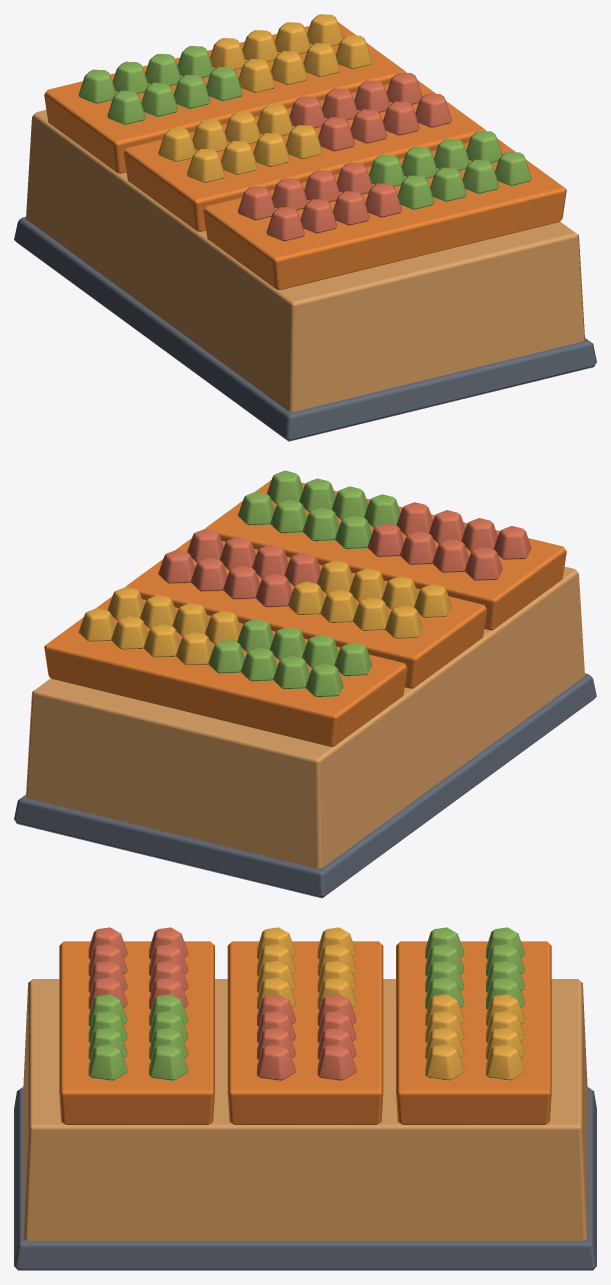
Rendered from produce_counter.glb.
3 views of the same model, one above another, from view 1: azimuth 30°, elevation 25°; view 2: azimuth 150°, elevation 25°; view 3: azimuth 270°, elevation 25° (orthographic). The views are drawn at different scales.
Parts seen in each view (by area): view 1: produce_counter; view 2: produce_counter; view 3: produce_counter.
Part boxes in pixels (bbox=[...]): produce_counter: bbox=[14, 14, 596, 441]; produce_counter: bbox=[14, 470, 596, 898]; produce_counter: bbox=[14, 927, 596, 1270].
Size of the model in its own units: 2.26 by 1.32 by 3.46.
